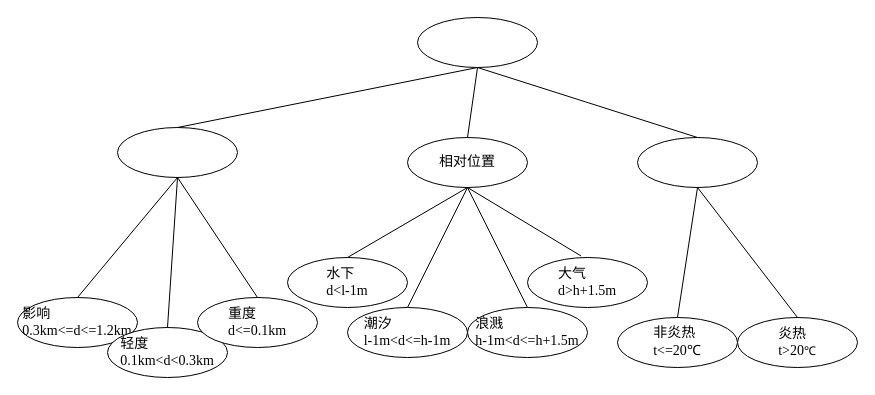
Image size: 875x395. Some labels were removed from this diagram. Each missing label, with the box of its shape:
Ⅲ 子类: (416, 16, 538, 68)
年平均温度: (636, 136, 758, 188)
海岸线距离: (116, 126, 238, 178)
